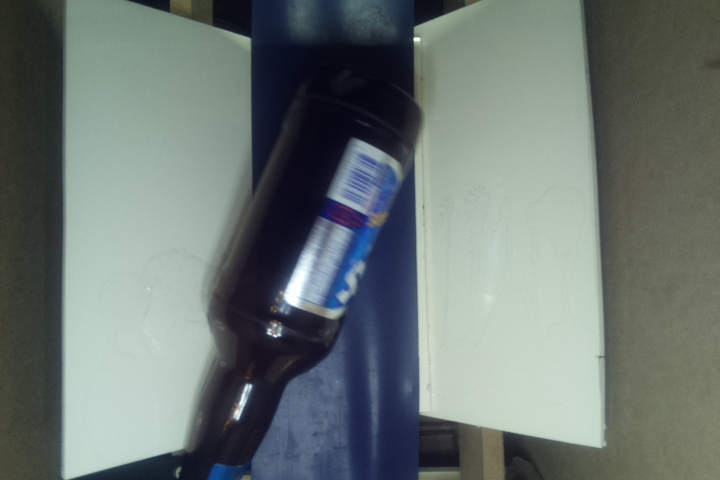makju: (181, 60, 429, 480)
